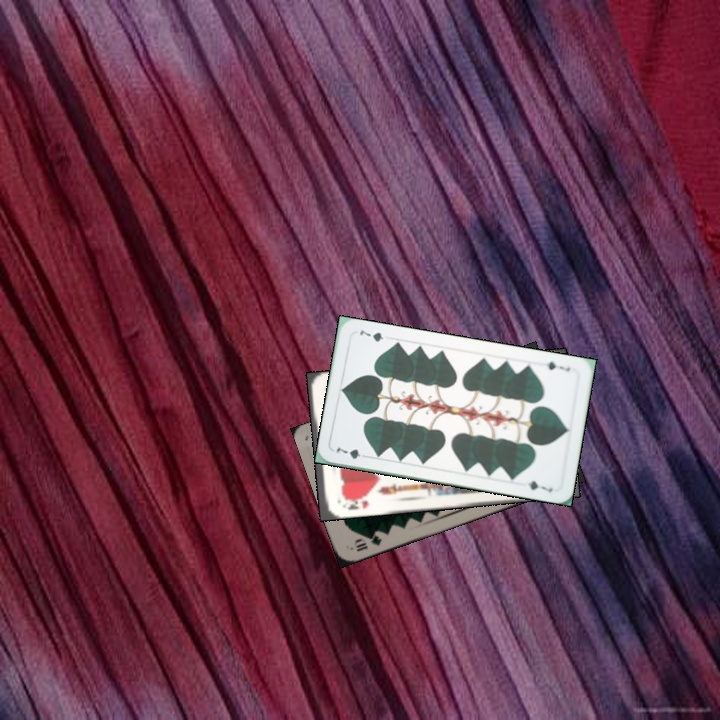G10: (350, 530, 384, 554)
G7: (332, 443, 372, 462), (543, 357, 573, 374)
HK: (338, 492, 371, 513)
